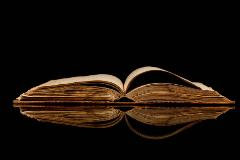paper: (13, 65, 235, 138)
